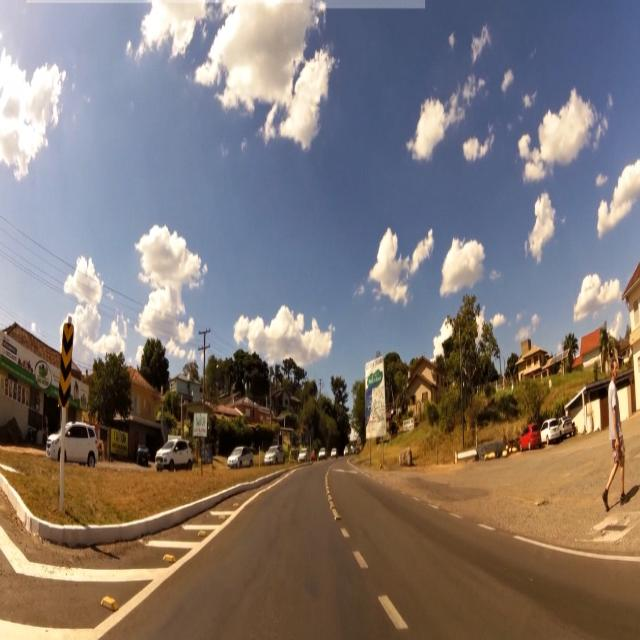MP: (57, 320, 74, 412)
